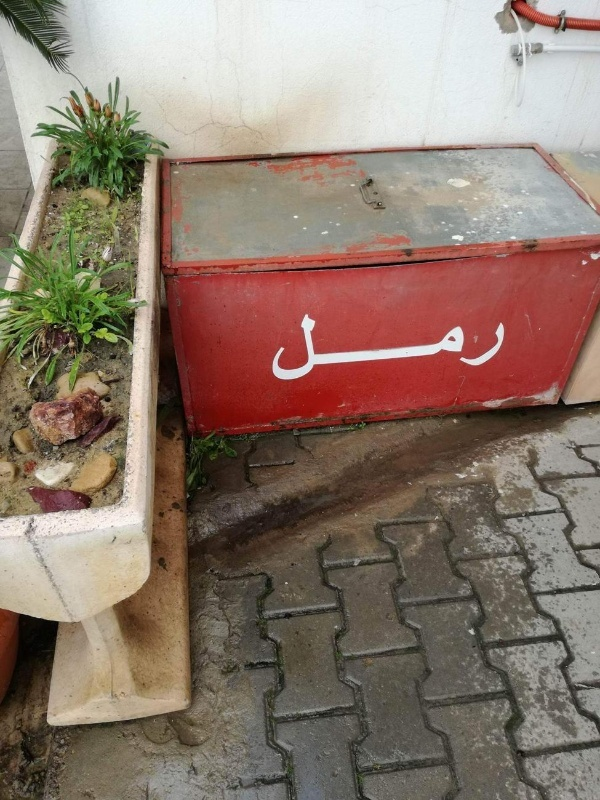text: (273, 313, 288, 384), (289, 313, 304, 384), (305, 313, 320, 384), (321, 313, 336, 384), (337, 313, 352, 384), (353, 313, 368, 384), (369, 313, 384, 384), (385, 313, 400, 384), (401, 313, 416, 384), (417, 313, 432, 384), (433, 313, 448, 384), (449, 313, 464, 384), (465, 313, 480, 384), (481, 313, 496, 384), (497, 313, 506, 384), (271, 313, 272, 384)
